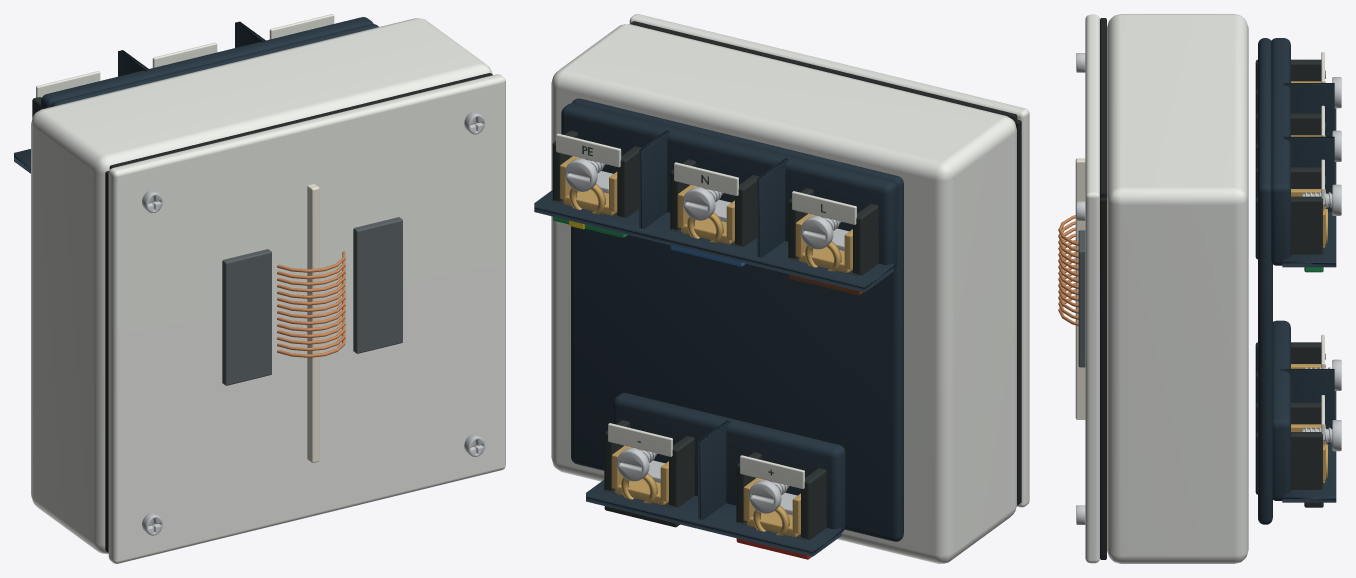
File: dcsupply_default.glb
The picture shows the model from 3 angles, left to right: view 1: azimuth 30°, elevation 25°; view 2: azimuth 150°, elevation 25°; view 3: azimuth 270°, elevation 25°; orthographic projection. The views are drawn at different scales.
Parts seen in each view (by area): view 1: Removable converter lid, Electronic converter chassis, detail:converter-specific-core · Detail ferrite magnetic cor, part:terminals · Original a463fd81, detail:converter-specific-core · Detail oxygen-free copper, Primary secondary barrier, detail:enclosure-gasket-and-fixings · Detail rubber gasket, detail:enclosure-gasket-and-fixings · Detail zinc plated fix, Moulded terminal legend pad, Moulded terminal legend pad.002, Moulded terminal legend pad.001; view 2: part:terminals · Original a463fd81, Electronic converter chassis, Removable converter lid, detail:enclosure-gasket-and-fixings · Detail rubber gasket, detail:terminal-clamp:- · Detail moulded engineering polymer, detail:terminal-clamp:+ · Detail moulded engineering polymer, detail:terminal-clamp:L · Detail moulded engineering polymer, detail:terminal-clamp:PE · Detail moulded engineering polyme, detail:terminal-clamp:N · Detail moulded engineering polymer, detail:terminal-clamp:N · Detail machined brass, detail:terminal-clamp:- · Detail machined brass, detail:terminal-clamp:+ · Detail machined brass (+12 smaller); view 3: Electronic converter chassis, part:terminals · Original a463fd81, Removable converter lid, detail:enclosure-gasket-and-fixings · Detail rubber gasket, detail:terminal-clamp:- · Detail moulded engineering polymer, detail:terminal-clamp:PE · Detail moulded engineering polyme, detail:converter-specific-core · Detail oxygen-free copper, Primary secondary barrier, detail:converter-specific-core · Detail ferrite magnetic cor, detail:terminal-clamp:L · Detail moulded engineering polymer, detail:terminal-clamp:N · Detail moulded engineering polymer, detail:terminal-clamp:+ · Detail moulded engineering polymer (+5 smaller).
Boxes of the visible parts, x1,y1,x2,y2 form: Removable converter lid: (108,74,505,563); Electronic converter chassis: (31,18,492,553); detail:converter-specific-core · Detail ferrite magnetic cor: (222,217,402,385); part:terminals · Original a463fd81: (14,17,378,173); detail:converter-specific-core · Detail oxygen-free copper: (277,251,345,357); Primary secondary barrier: (307,184,319,462); detail:enclosure-gasket-and-fixings · Detail rubber gasket: (105,73,492,552); detail:enclosure-gasket-and-fixings · Detail zinc plated fix: (142,112,485,535); Moulded terminal legend pad: (36,71,100,97); Moulded terminal legend pad.002: (269,14,334,39); Moulded terminal legend pad.001: (152,42,217,67); part:terminals · Original a463fd81: (534,98,903,556); Electronic converter chassis: (551,24,1016,563); Removable converter lid: (629,14,1029,507); detail:enclosure-gasket-and-fixings · Detail rubber gasket: (630,21,1021,506); detail:terminal-clamp:- · Detail moulded engineering polymer: (604,420,694,527); detail:terminal-clamp:+ · Detail moulded engineering polymer: (736,452,826,540); detail:terminal-clamp:L · Detail moulded engineering polymer: (788,188,878,275); detail:terminal-clamp:PE · Detail moulded engineering polyme: (552,130,641,218); detail:terminal-clamp:N · Detail moulded engineering polymer: (670,159,759,247); detail:terminal-clamp:N · Detail machined brass: (677,185,734,244); detail:terminal-clamp:- · Detail machined brass: (611,445,668,504); detail:terminal-clamp:+ · Detail machined brass: (743,478,800,537); Electronic converter chassis: (1107,14,1248,563); part:terminals · Original a463fd81: (1258,38,1336,524); Removable converter lid: (1085,14,1099,563); detail:enclosure-gasket-and-fixings · Detail rubber gasket: (1100,18,1106,559); detail:terminal-clamp:- · Detail moulded engineering polymer: (1255,402,1324,507); detail:terminal-clamp:PE · Detail moulded engineering polyme: (1255,167,1324,259); detail:converter-specific-core · Detail oxygen-free copper: (1058,215,1078,325); Primary secondary barrier: (1075,158,1085,419); detail:converter-specific-core · Detail ferrite magnetic cor: (1078,198,1106,367); detail:terminal-clamp:L · Detail moulded engineering polymer: (1255,59,1321,114); detail:terminal-clamp:N · Detail moulded engineering polymer: (1255,113,1321,168); detail:terminal-clamp:+ · Detail moulded engineering polymer: (1255,342,1321,404).
Size of the model in its own units: 0.7192 by 0.689 by 0.4712.
